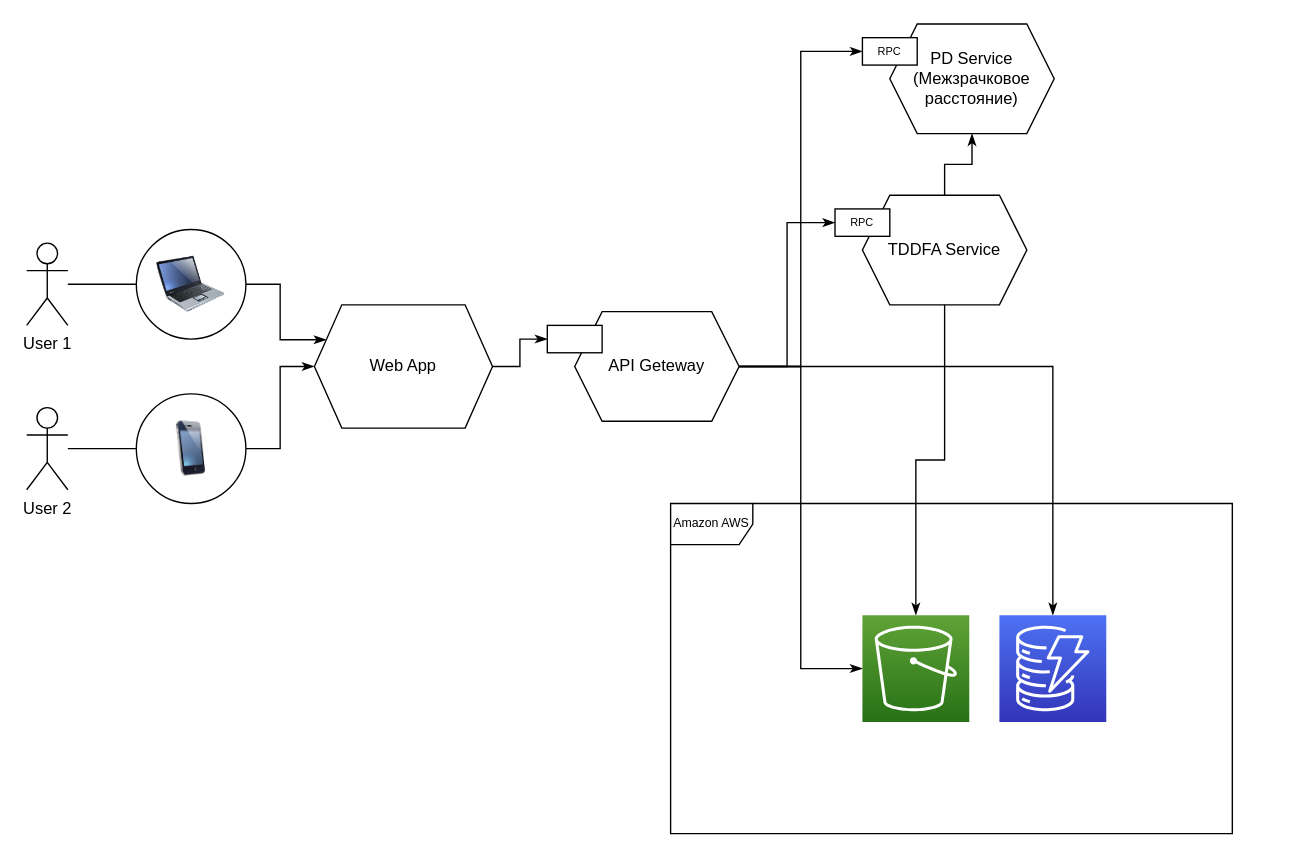
This 1311x858 diagram has some shape labels left out. Here are the shapes that lost their labels. From the top down, the centre of each, then its label:
At point 574,338: "REST API".
At point 915,668: "File Storage".
At point 1052,668: "Database".
